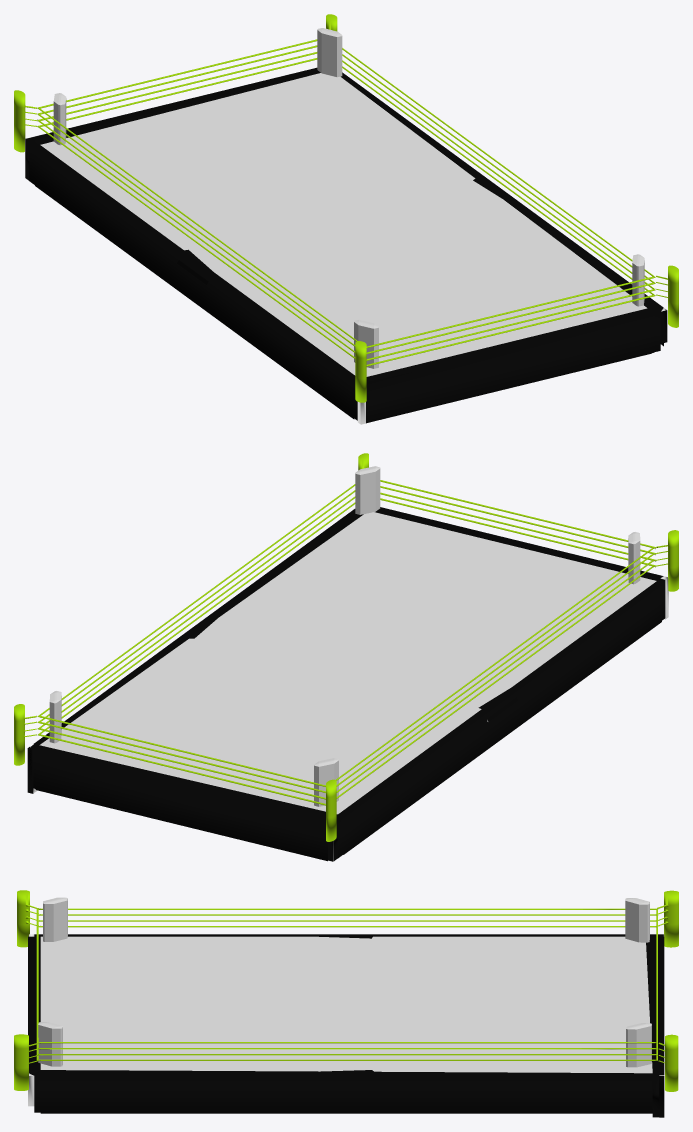
The model's file is ring final.glb.
3 renders of one model, top to bottom at view 1: azimuth 30°, elevation 25°; view 2: azimuth 150°, elevation 25°; view 3: azimuth 270°, elevation 25°, orthographic. The views are drawn at different scales.
Parts seen in each view (by area): view 1: Cube; view 2: Cube; view 3: Cube.
Part boxes in pixels (x1,y1,x2,y2): Cube: (14, 14, 678, 424); Cube: (14, 453, 678, 861); Cube: (14, 890, 678, 1117).
Size of the model in its own units: 25.06 by 6.69 by 47.4.
